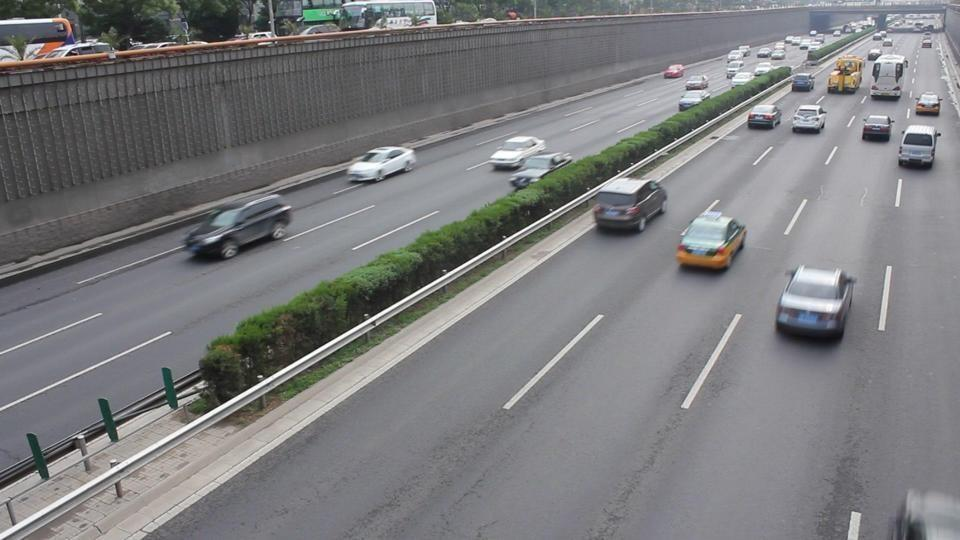car: (181, 194, 293, 261), (775, 263, 857, 342), (675, 202, 748, 271), (592, 175, 668, 234), (1, 15, 79, 62), (347, 146, 417, 184), (508, 152, 574, 192), (489, 135, 545, 170), (897, 125, 941, 169), (35, 42, 119, 62), (791, 104, 827, 135), (860, 114, 894, 143), (747, 103, 782, 129), (914, 91, 942, 115), (684, 74, 710, 92), (792, 73, 815, 92), (0, 46, 20, 66)
